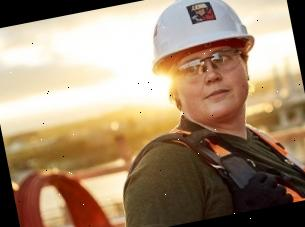helmet: (137, 0, 257, 73)
wear: (111, 108, 305, 227)
